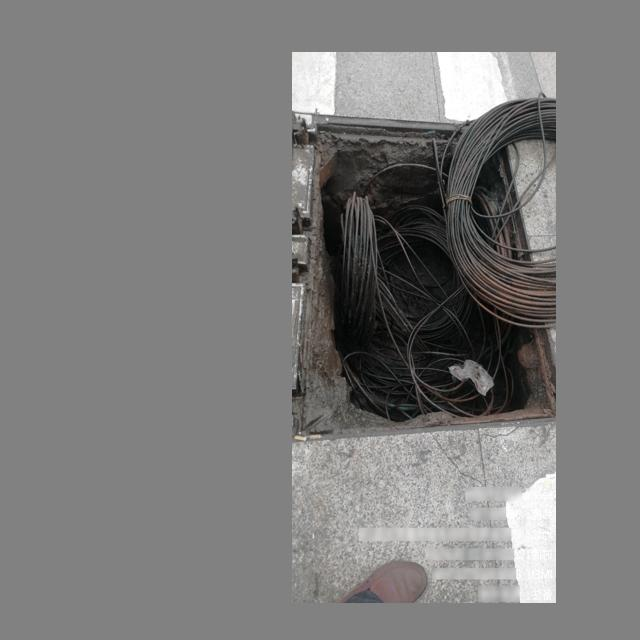lose: (295, 99, 549, 460)
